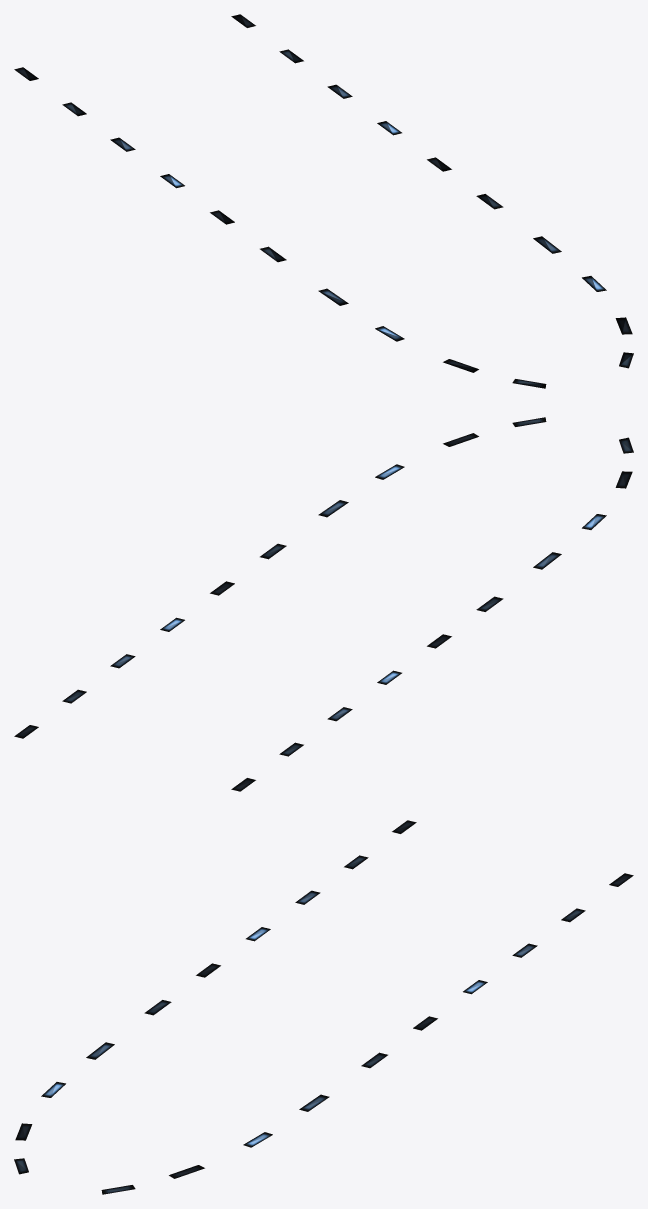
Rendered from stg310_MotShiplight_11.obj.
The picture shows the model from 3 angles, top to bottom: view 1: azimuth 30°, elevation 25°; view 2: azimuth 150°, elevation 25°; view 3: azimuth 330°, elevation 25°; orthographic projection.
Visible parts, largest first — view 1: polygon0; view 2: polygon0; view 3: polygon0.
Part boxes in pixels (box(x1,y1,x2,y2)): polygon0: box(14, 14, 633, 388); polygon0: box(14, 417, 633, 791); polygon0: box(14, 820, 633, 1194).
Bounding box in the file's own units: 478 × 0 × 1681.
1 material, 1 textured.
